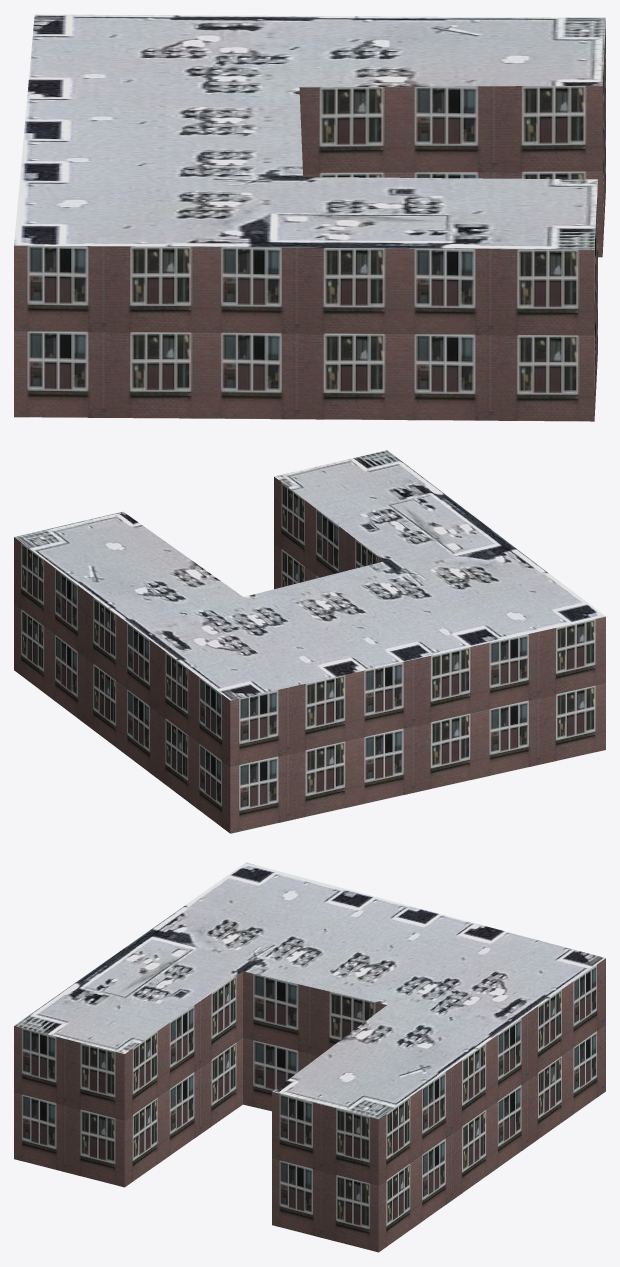
Rendered from ResTex__4989.fbx.
3 renders of one model, top to bottom at view 1: azimuth 30°, elevation 25°; view 2: azimuth 150°, elevation 25°; view 3: azimuth 270°, elevation 25°, orthographic. The views are drawn at different scales.
Parts seen in each view (by area): view 1: CityEngineMaterial_12_m, CityEngineMaterial_4_m; view 2: CityEngineMaterial_12_m, CityEngineMaterial_4_m; view 3: CityEngineMaterial_12_m, CityEngineMaterial_4_m.
Boxes of the visible parts, x1,y1,x2,y2 form: CityEngineMaterial_12_m: [14, 21, 605, 421]; CityEngineMaterial_4_m: [14, 14, 605, 249]; CityEngineMaterial_12_m: [14, 477, 605, 833]; CityEngineMaterial_4_m: [14, 450, 605, 700]; CityEngineMaterial_12_m: [14, 958, 605, 1252]; CityEngineMaterial_4_m: [14, 862, 605, 1118].
Size of the model in its own units: 24.78 by 6 by 24.14.
2 materials, 2 textured.
